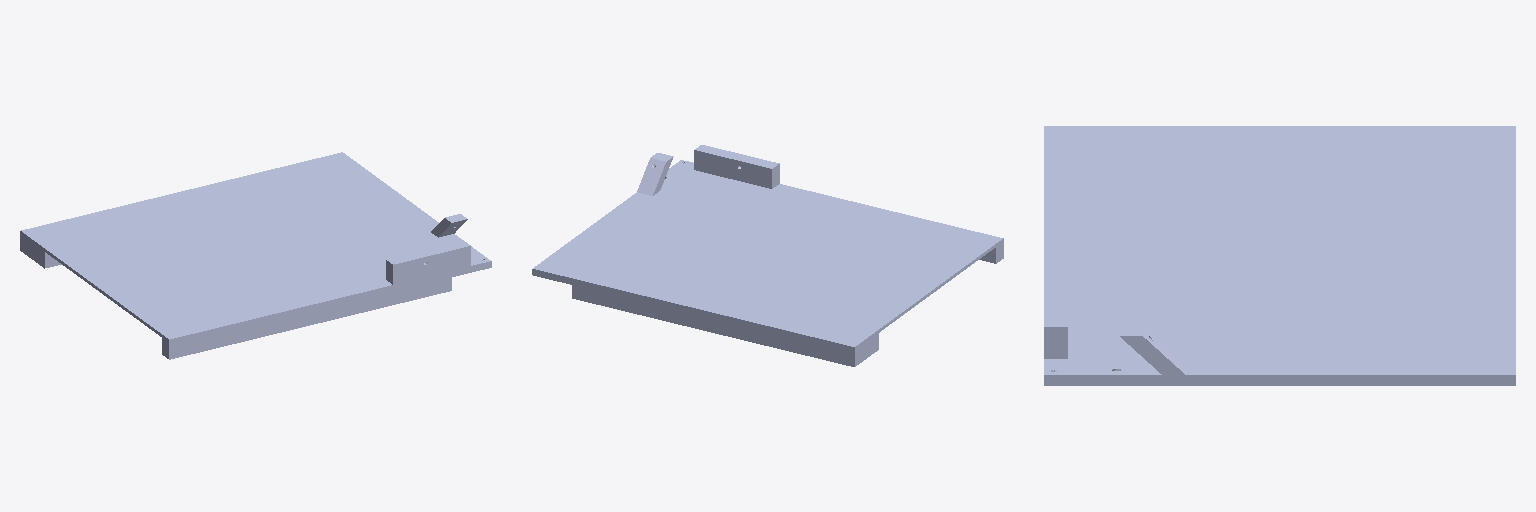
robot.urdf — battery_pack_describe:
<?xml version="1.0" encoding="utf-8"?>
<!-- =================================================================================== -->
<!-- |    This document was autogenerated by xacro from tilt_battery.xacro             | -->
<!-- |    EDITING THIS FILE BY HAND IS NOT RECOMMENDED                                 | -->
<!-- =================================================================================== -->
<!-- This URDF was automatically created by SolidWorks to URDF Exporter! Originally created by [author] ([email redacted]) 
     Commit Version: 1.5.1-0-g916b5db  Build Version: 1.5.7152.31018
     For more information, please see http://wiki.ros.org/sw_urdf_exporter -->
<robot name="battery_pack_describe">
  <link name="tilt_base_link">
    <inertial>
      <origin rpy="0 0 0" xyz="-0.17823 0.0014541 -0.18254"/>
      <mass value="2.1452"/>
      <inertia ixx="0.04437" ixy="-0.00066651" ixz="-0.0054047" iyy="0.089539" iyz="-0.0010719" izz="0.045613"/>
    </inertial>
    <visual>
      <origin rpy="0 0 0" xyz="0 0 0"/>
      <geometry>
        <mesh filename="package://battery_pack_describe/meshes/v_battery_base_link.dae"/>
      </geometry>
      <material name="">
        <color rgba="0.79216 0.81961 0.93333 1"/>
      </material>
    </visual>
    <collision>
      <origin rpy="0 0 0" xyz="0 0 0"/>
      <geometry>
        <mesh filename="package://battery_pack_describe/meshes/v_battery_base_link.dae"/>
      </geometry>
    </collision>
  </link>

  <!-- <gazebo reference="tilt_base_link">
    <material>Gazebo/FlatBlack</material>
  </gazebo> -->


  <link name="tilt_bolt_Link">
    <inertial>
      <origin rpy="0 0 0" xyz="-0.00384797059870837 -2.26255488650073E-09 1.06046859488229E-09"/>
      <mass value="0.0100430554001659"/>
      <inertia ixx="8.16036443975724E-08" ixy="-2.55938176329654E-13" ixz="1.19279973102044E-13" iyy="1.22914669997157E-06" iyz="5.5743255490632E-14" izz="1.22914647668468E-06"/>
    </inertial>
    <visual>
      <origin rpy="0 0 0" xyz="0 0 0"/>
      <geometry>
        <mesh filename="package://battery_pack_describe/meshes/tilt_bolt_Link.STL"/>
      </geometry>
      <material name="">
        <color rgba="0.776470588235294 0.756862745098039 0.737254901960784 1"/>
      </material>
    </visual>
    <collision>
      <origin rpy="0 0 0" xyz="0 0 0"/>
      <geometry>
        <mesh filename="package://battery_pack_describe/meshes/tilt_bolt_Link.STL"/>
      </geometry>
    </collision>
  </link>
  <gazebo reference="tilt_bolt_Link">
    <material>Gazebo/Gray</material>
  </gazebo>
  <joint name="tilt_bolt_joint" type="continuous">
    <origin rpy="0.7854 0.7854 -1.5708" xyz="0.055323 0.03596 0.031184"/>
    <parent link="tilt_base_link"/>
    <child link="tilt_bolt_Link"/>
    <axis xyz="1 0 0"/>
  </joint>
  <link name="tilt_nut_Link">
    <inertial>
      <origin rpy="0 0 0" xyz="-8.23260327964537E-10 1.38777878078145E-17 -6.0243313042968E-07"/>
      <mass value="0.00265736664598247"/>
      <inertia ixx="2.79753045005072E-08" ixy="-7.03103520670074E-24" ixz="1.31797003103789E-18" iyy="2.79771327058772E-08" iyz="-4.83267733644929E-14" izz="4.46160415460722E-08"/>
    </inertial>
    <visual>
      <origin rpy="0 0 0" xyz="0 0 0"/>
      <geometry>
        <mesh filename="package://battery_pack_describe/meshes/tilt_nut_Link.STL"/>
      </geometry>
      <material name="">
        <color rgba="0.776470588235294 0.756862745098039 0.737254901960784 1"/>
      </material>
    </visual>
    <collision>
      <origin rpy="0 0 0" xyz="0 0 0"/>
      <geometry>
        <mesh filename="package://battery_pack_describe/meshes/tilt_nut_Link.STL"/>
      </geometry>
    </collision>
  </link>
  <gazebo reference="tilt_nut_Link">
    <material>Gazebo/Gray</material>
  </gazebo>
  <joint name="tilt_nut_joint" type="continuous">
    <origin rpy="2.5261 -0.5236 -0.61548" xyz="0.055323 0.032323 0.027548"/>
    <parent link="tilt_base_link"/>
    <child link="tilt_nut_Link"/>
    <axis xyz="0 0 1"/>
  </joint>
</robot>

--- Facts derived from the render (not from the file) ---
The picture shows the robot from 3 angles, left to right: view 1: azimuth 30°, elevation 25°; view 2: azimuth 150°, elevation 25°; view 3: azimuth 270°, elevation 25°; orthographic projection.
Robot: battery_pack_describe — 3 links, 2 joints (2 continuous); root link tilt_base_link; default pose: every joint at zero.
Links seen in each view (by area): view 1: tilt_base_link; view 2: tilt_base_link; view 3: tilt_base_link.
Link boxes in pixels (left/top/right/bottom): tilt_base_link: left=20, top=152, right=491, bottom=359; tilt_base_link: left=532, top=145, right=1003, bottom=366; tilt_base_link: left=1044, top=126, right=1515, bottom=385.
Size in the robot's own frame: 0.5 by 0.4 by 0.0665 metres.
1 mesh visuals loaded from 3 distinct referenced files (1 Collada DAE); not drawn: 2 (reference not matched to a file when rendering).